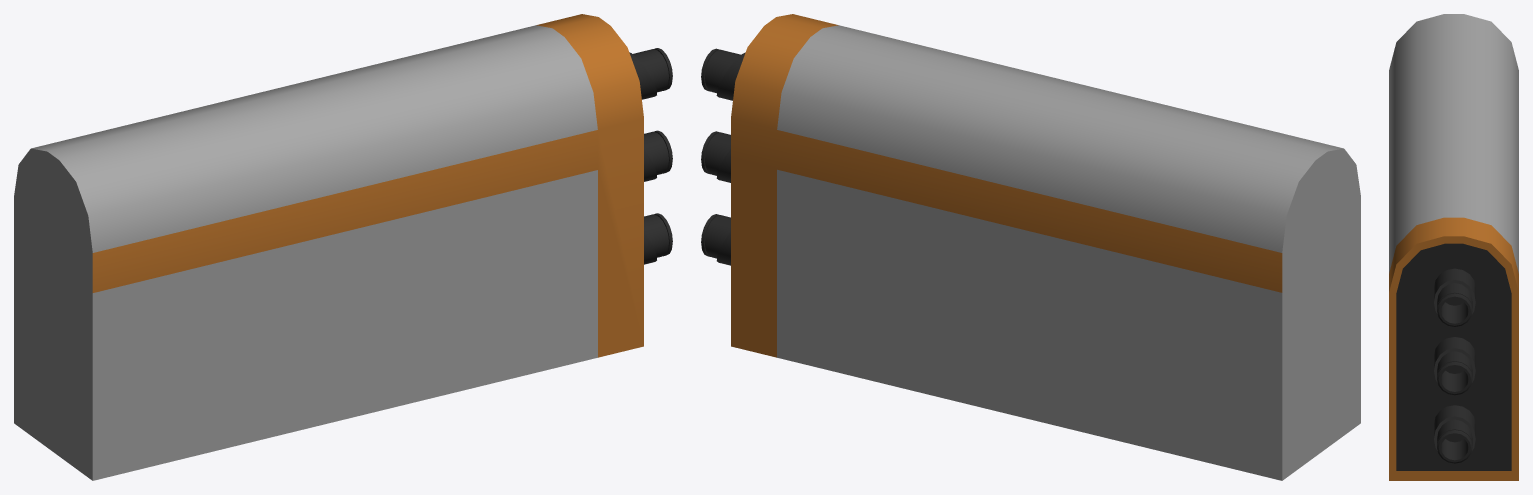
File: quaternius-modular-sci-fi-guns-barrel-ar-1.glb
The picture shows the model from 3 angles, left to right: view 1: azimuth 30°, elevation 25°; view 2: azimuth 150°, elevation 25°; view 3: azimuth 270°, elevation 25°; orthographic projection. The views are drawn at different scales.
Visible parts, largest first — view 1: Barrel_AR_1; view 2: Barrel_AR_1; view 3: Barrel_AR_1.
Part boxes in pixels (box(x1,y1,x2,y2)): Barrel_AR_1: box(14, 14, 672, 480); Barrel_AR_1: box(701, 14, 1360, 480); Barrel_AR_1: box(1389, 14, 1518, 480).
Size of the model in its own units: 0.5138 by 0.2383 by 0.1147.
